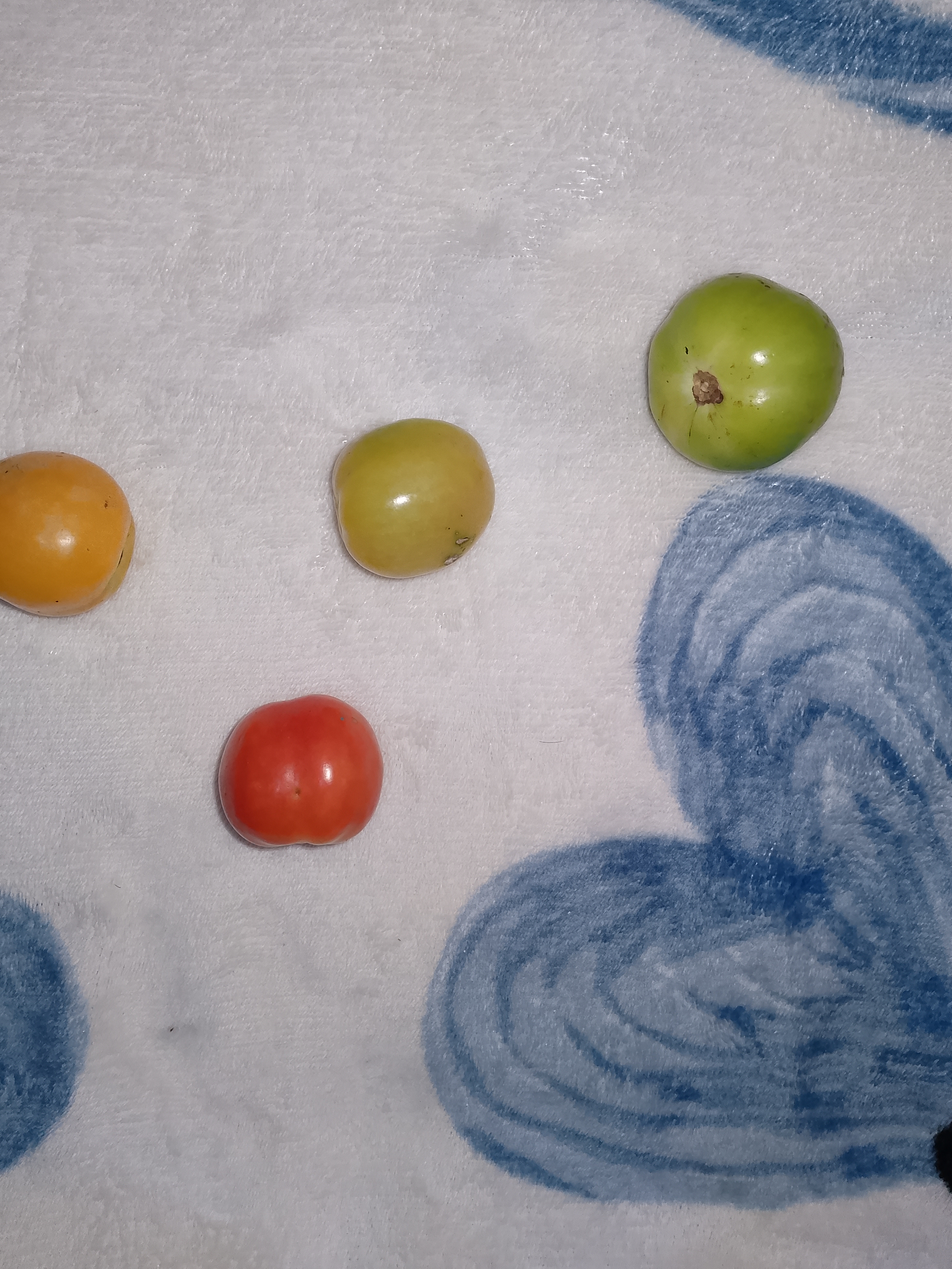Ripe: (195, 654, 439, 895), (0, 389, 145, 636)
Unripe: (618, 218, 859, 509), (278, 392, 540, 618)
